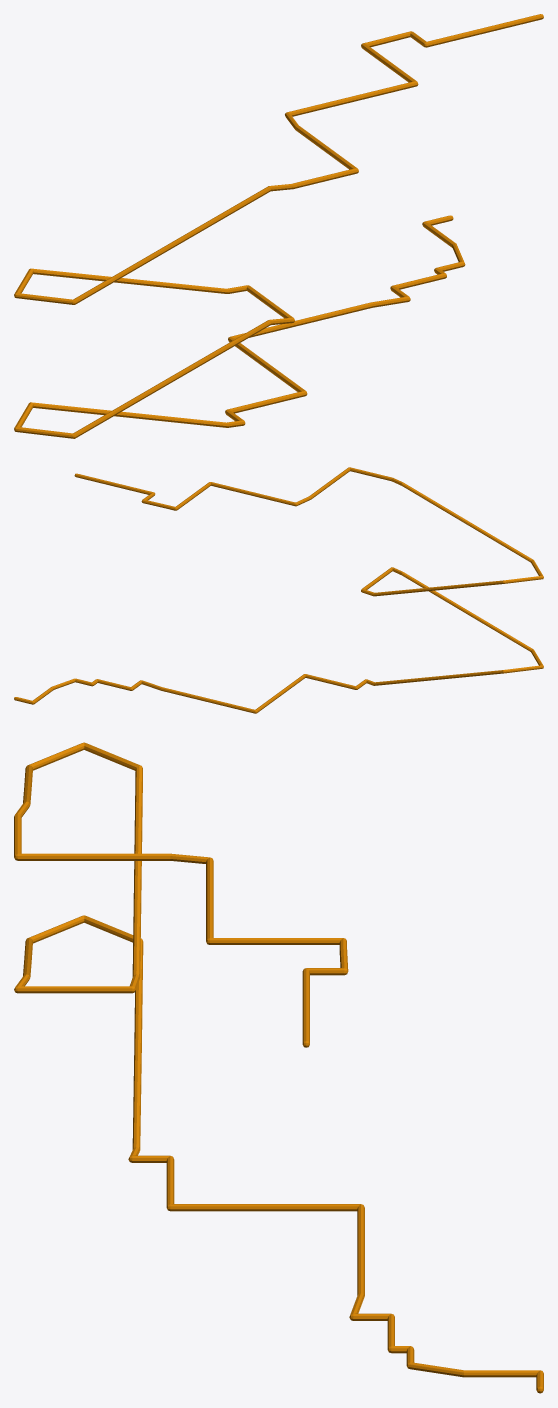
3 views of the same model, one above another, from view 1: azimuth 30°, elevation 25°; view 2: azimuth 150°, elevation 25°; view 3: azimuth 270°, elevation 25° (orthographic). The views are drawn at different scales.
Size of the model in its own units: 2406 by 1020 by 1390.
